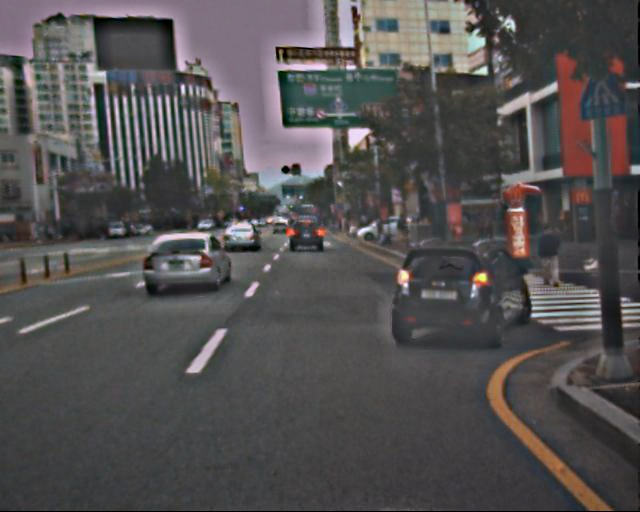person: (536, 224, 563, 289), (475, 212, 496, 244), (398, 212, 412, 245)
